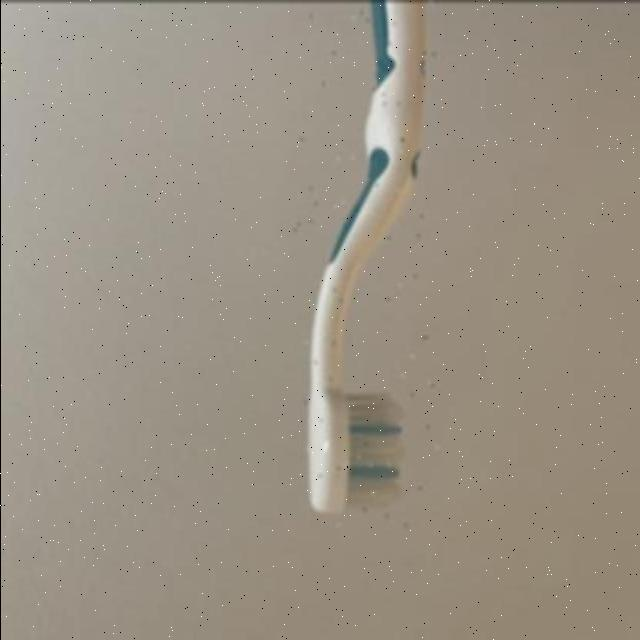toothbrush: (294, 0, 438, 524)
